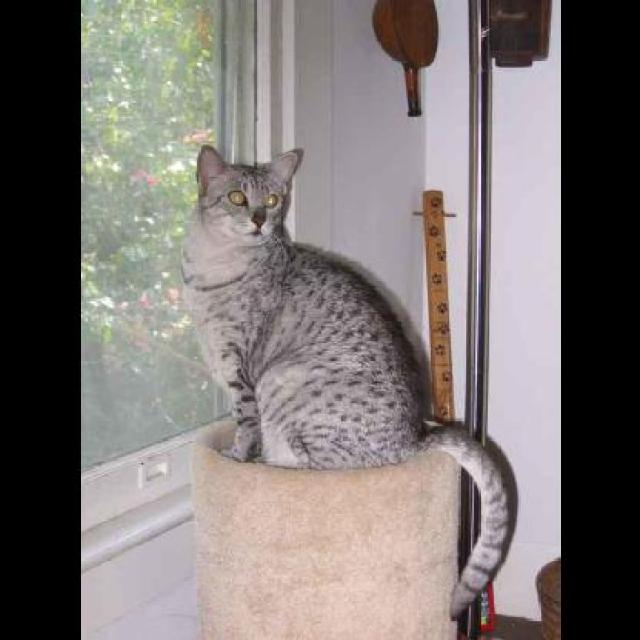unauthorized: (177, 143, 518, 619)
